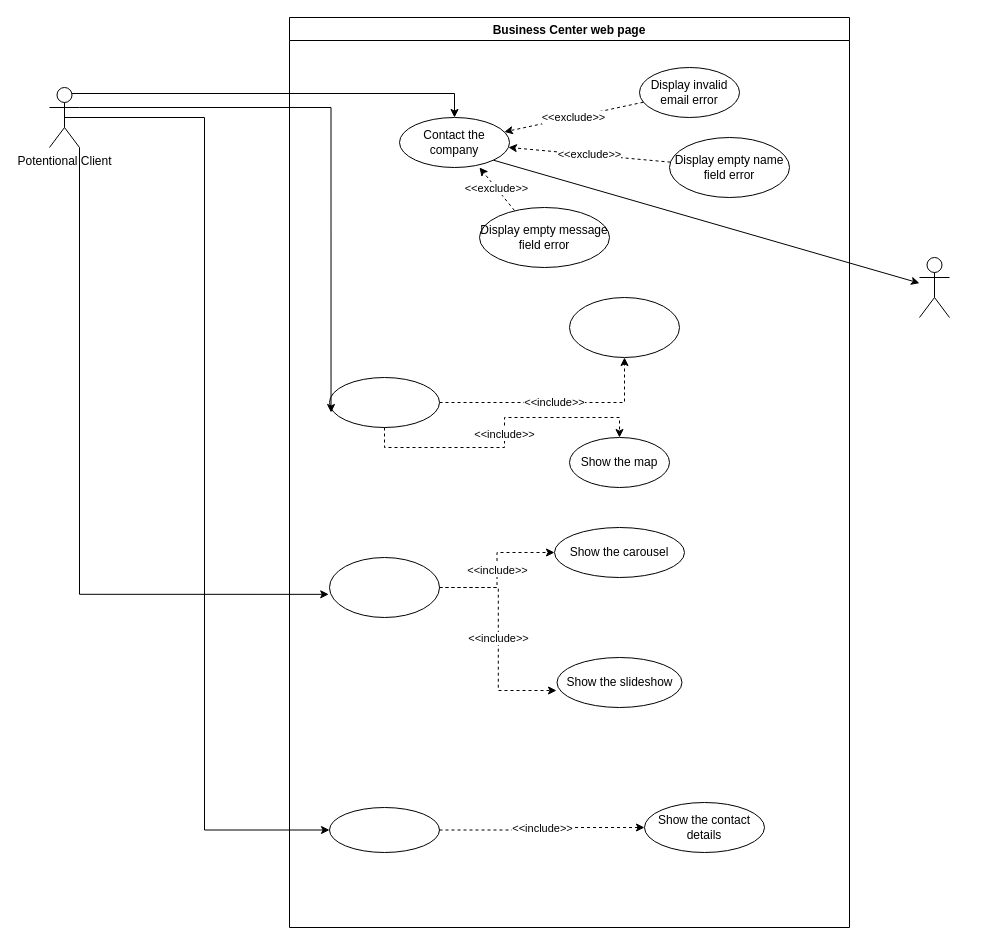
Image size: 991x945. Some labels were removed from this diagram. Here are the shapes that lost their labels. From the top down, the centre of each, then its label:
[934,287]: Building owner
[624,327]: Show the localization details
[384,402]: Go to localization subpage
[384,587]: Go to free place subpage
[384,829]: Go to contact subpage
